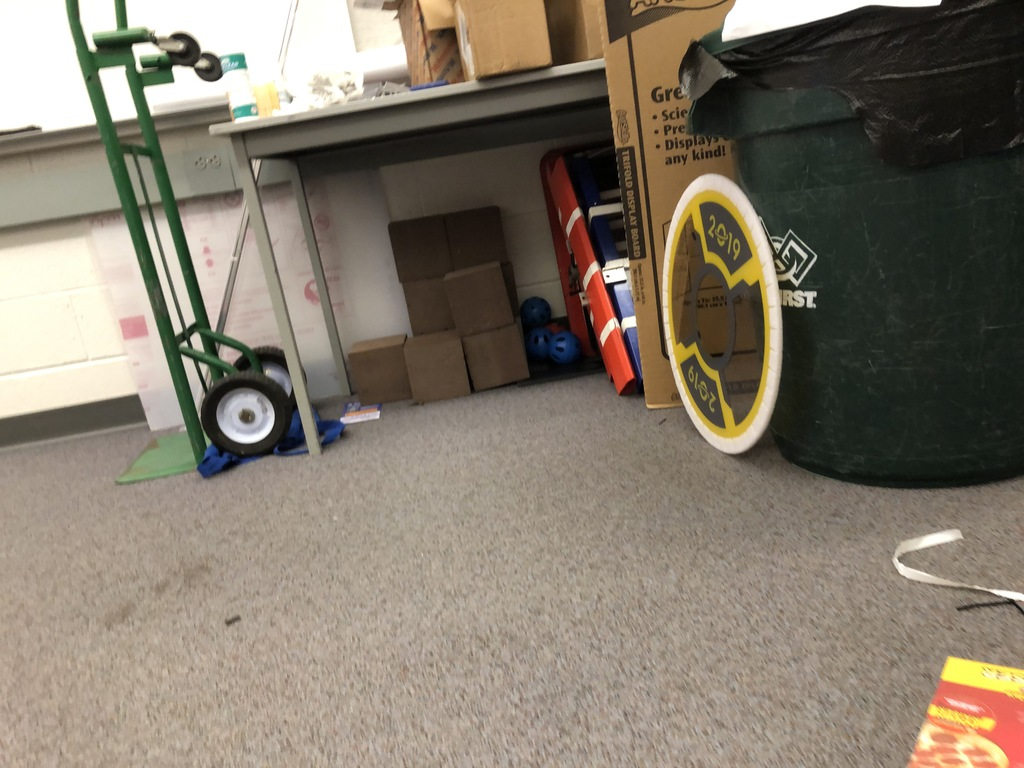hatch_panel: (654, 156, 787, 477)
